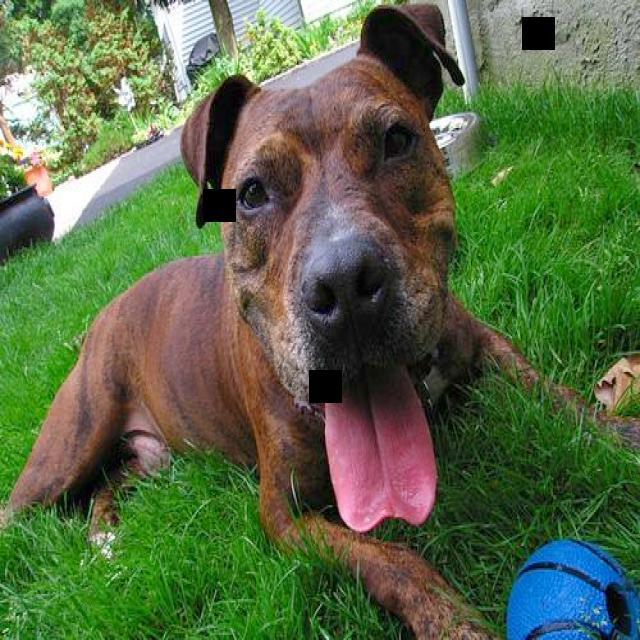adult_dog: (6, 3, 583, 640)
